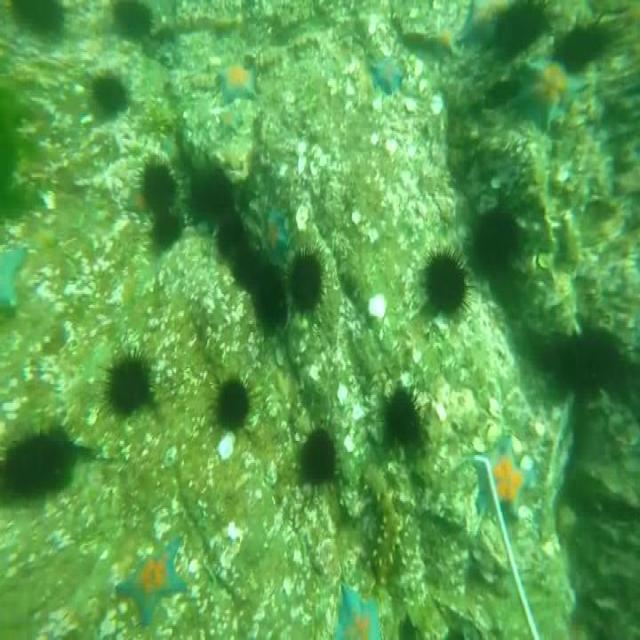echinus: (2, 424, 84, 499), (551, 11, 610, 71), (97, 349, 151, 414), (420, 244, 470, 312), (289, 244, 329, 312), (498, 0, 546, 54), (383, 382, 422, 448), (478, 210, 520, 270), (297, 428, 336, 490), (189, 166, 233, 220), (136, 155, 176, 210), (215, 376, 252, 432), (90, 65, 127, 117), (255, 264, 285, 319), (110, 3, 153, 41), (148, 212, 188, 243), (238, 248, 267, 289), (220, 208, 247, 250)
holothurian: (366, 466, 398, 578)
scallop: (215, 431, 238, 460), (368, 292, 387, 316), (295, 205, 309, 231), (298, 144, 308, 175), (430, 95, 444, 114), (403, 98, 417, 115), (519, 457, 534, 471), (387, 138, 397, 154)
starfish: (513, 49, 594, 130), (120, 534, 184, 627), (476, 433, 526, 521), (338, 584, 379, 640), (8, 0, 63, 35), (458, 0, 496, 49), (215, 62, 258, 104), (1, 242, 24, 310), (260, 210, 289, 259), (372, 52, 402, 93)
